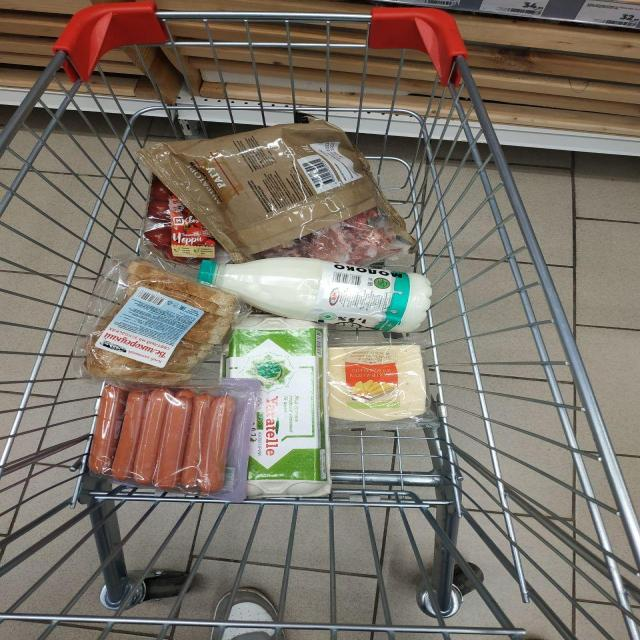cheese: (218, 213, 640, 605)
egg: (168, 276, 495, 640)
milk: (219, 142, 638, 416)
tomato: (87, 123, 255, 369), (67, 106, 226, 326), (75, 113, 220, 350), (84, 91, 238, 274)
